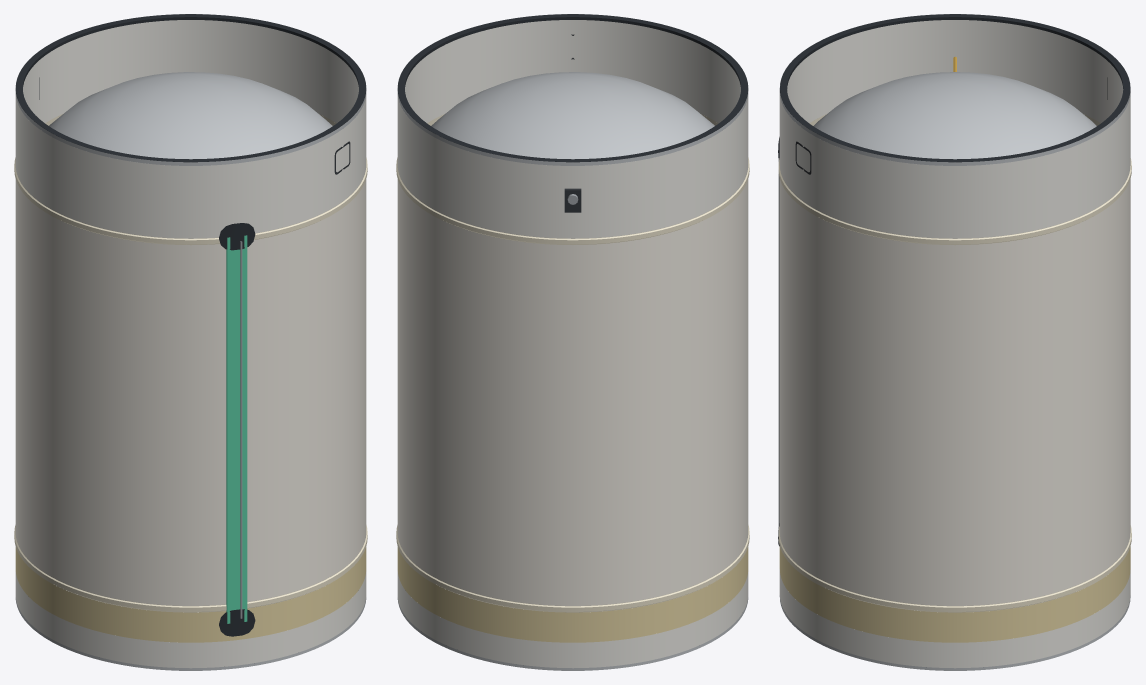
The model's file is dcss_lh2.glb.
3 renders of one model, left to right at view 1: azimuth 30°, elevation 25°; view 2: azimuth 150°, elevation 25°; view 3: azimuth 270°, elevation 25°, orthographic.
Visible parts, largest first — view 1: shell, detail, slot_bulkhead, slot_bulkhead__common, frames; view 2: shell, slot_bulkhead, slot_bulkhead__common, detail, frames; view 3: shell, slot_bulkhead, slot_bulkhead__common, detail, frames.
Boxes of the visible parts, box(x1,y1,x2,y2) form: shell: box(15, 14, 366, 670); detail: box(14, 77, 367, 636); slot_bulkhead: box(49, 72, 332, 159); slot_bulkhead__common: box(101, 73, 328, 147); frames: box(15, 14, 366, 162); shell: box(397, 14, 748, 670); slot_bulkhead: box(431, 72, 714, 159); slot_bulkhead__common: box(439, 73, 712, 149); detail: box(396, 34, 749, 612); frames: box(397, 14, 748, 162); shell: box(779, 14, 1130, 670); slot_bulkhead: box(813, 72, 1096, 159); slot_bulkhead__common: box(817, 73, 1045, 145); detail: box(778, 77, 1131, 612); frames: box(780, 14, 1130, 162).
Size of the model in its own units: 3.4 by 5.4 by 3.4.
